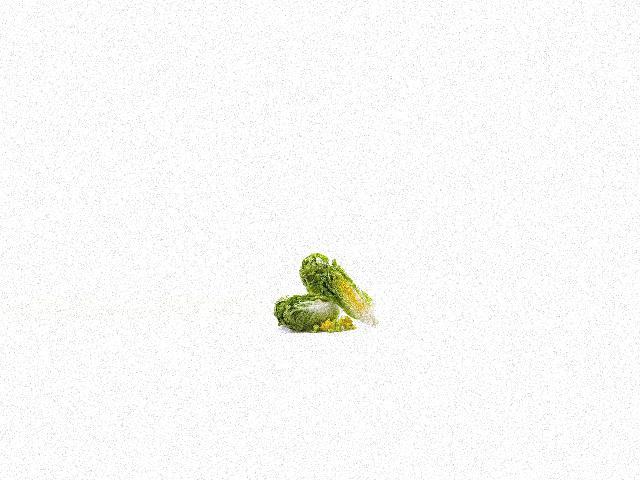lettuce: (275, 291, 347, 335)
